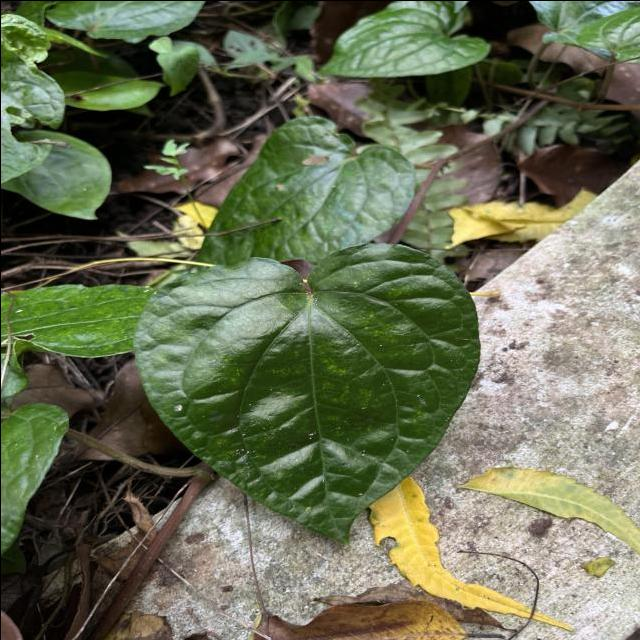Piper betle: (127, 235, 485, 550)
